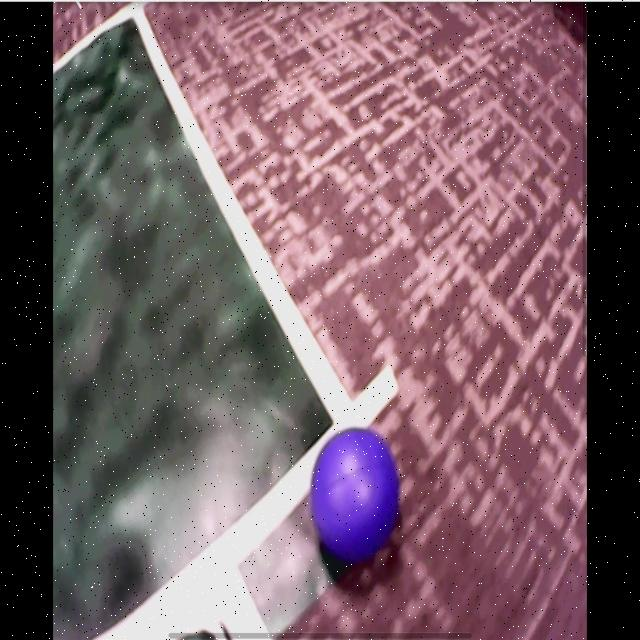ball: (312, 429, 399, 558)
